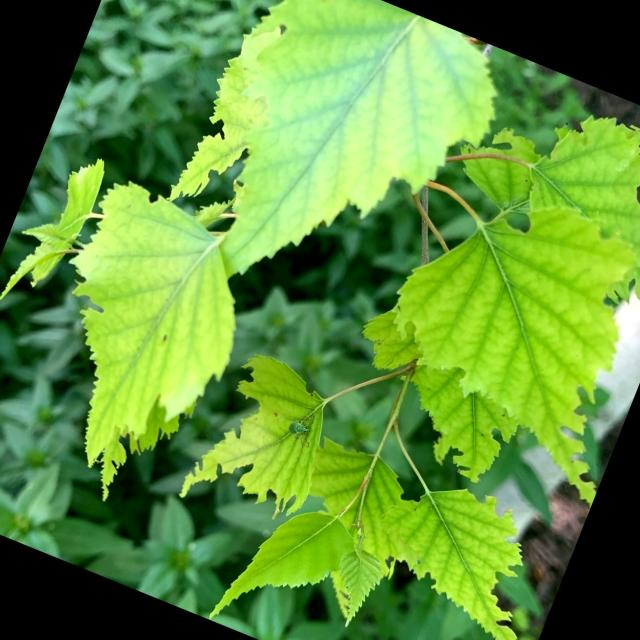Chlorosis: (95, 0, 464, 479)
